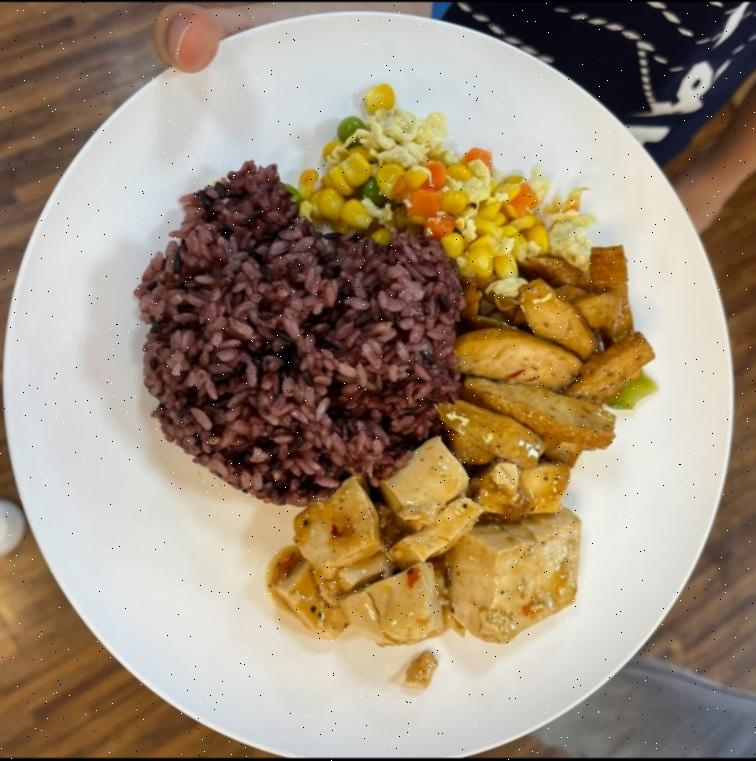plate: (6, 2, 742, 756)
purple rice: (138, 162, 453, 503)
side dish: (270, 438, 586, 660), (446, 243, 660, 494), (296, 84, 564, 270)
